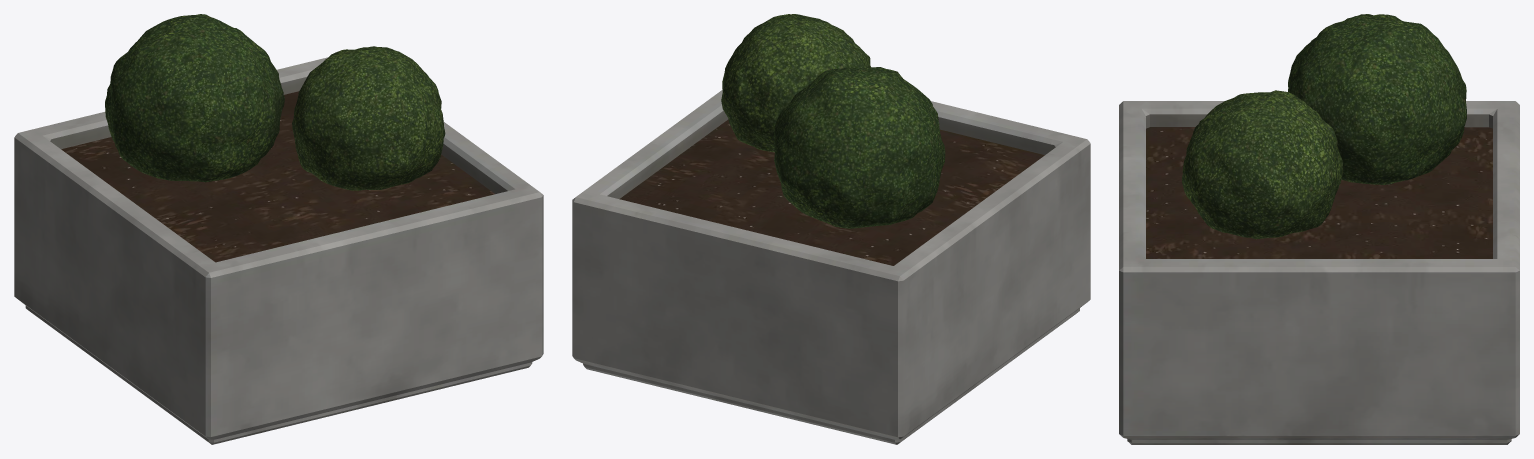
Rendered from planter.glb.
3 renders of one model, left to right at view 1: azimuth 30°, elevation 25°; view 2: azimuth 150°, elevation 25°; view 3: azimuth 270°, elevation 25°, orthographic. The views are drawn at different scales.
Visible parts, largest first — view 1: street-planter_body, street-planter_boxwood; view 2: street-planter_body, street-planter_boxwood; view 3: street-planter_body, street-planter_boxwood.
Part boxes in pixels (bbox=[...]): street-planter_body: bbox=[14, 57, 543, 444]; street-planter_boxwood: bbox=[105, 14, 445, 190]; street-planter_body: bbox=[572, 90, 1090, 444]; street-planter_boxwood: bbox=[721, 14, 945, 228]; street-planter_body: bbox=[1119, 101, 1519, 444]; street-planter_boxwood: bbox=[1182, 14, 1466, 239].
Bounding box in the file's own units: 1.2 × 1.04 × 1.2.
Materials: 2 (2 with a texture image).
